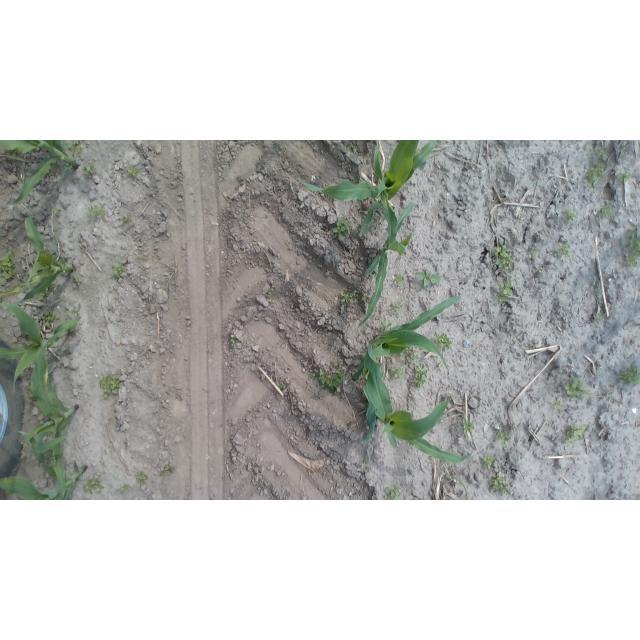Maize: (351, 297, 461, 448), (363, 335, 473, 465), (294, 140, 438, 238), (358, 185, 417, 327), (21, 364, 80, 501), (1, 212, 82, 304), (2, 304, 82, 395), (0, 430, 88, 500), (1, 141, 80, 206)
Weeds: (314, 368, 347, 392), (100, 372, 124, 398), (624, 228, 639, 269), (494, 245, 515, 272), (562, 423, 587, 444), (564, 380, 591, 399), (586, 161, 607, 185), (0, 250, 16, 279), (492, 281, 514, 302), (618, 365, 639, 387), (416, 269, 441, 287), (332, 216, 353, 237), (82, 477, 105, 494), (413, 364, 428, 389), (491, 475, 510, 494), (86, 204, 107, 220), (433, 332, 452, 349), (383, 483, 401, 499), (556, 241, 571, 259), (339, 290, 357, 305), (110, 264, 126, 280), (66, 141, 83, 156), (482, 452, 497, 469), (41, 311, 56, 327), (497, 430, 512, 446), (158, 463, 174, 477), (83, 163, 98, 177), (134, 471, 148, 486), (595, 145, 609, 160), (392, 273, 406, 288), (566, 209, 579, 225), (119, 214, 134, 227), (462, 419, 475, 433), (598, 204, 612, 216), (38, 288, 50, 302), (126, 167, 141, 178), (618, 171, 633, 182), (391, 300, 403, 313), (391, 367, 404, 379), (406, 350, 418, 363), (377, 322, 391, 333), (554, 399, 565, 412), (527, 248, 538, 260), (278, 381, 289, 392), (72, 273, 83, 284), (332, 358, 344, 368), (120, 483, 132, 493), (266, 285, 274, 299), (71, 305, 81, 316), (216, 146, 226, 155), (595, 314, 606, 322), (230, 336, 238, 346), (449, 473, 459, 481), (347, 142, 356, 150), (361, 460, 370, 468), (52, 208, 61, 216)
